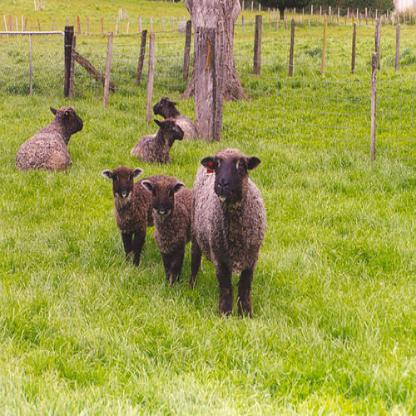sheep: (189, 149, 269, 320), (101, 164, 180, 270), (138, 178, 194, 283), (12, 103, 85, 173), (127, 119, 185, 164), (152, 96, 202, 142)
